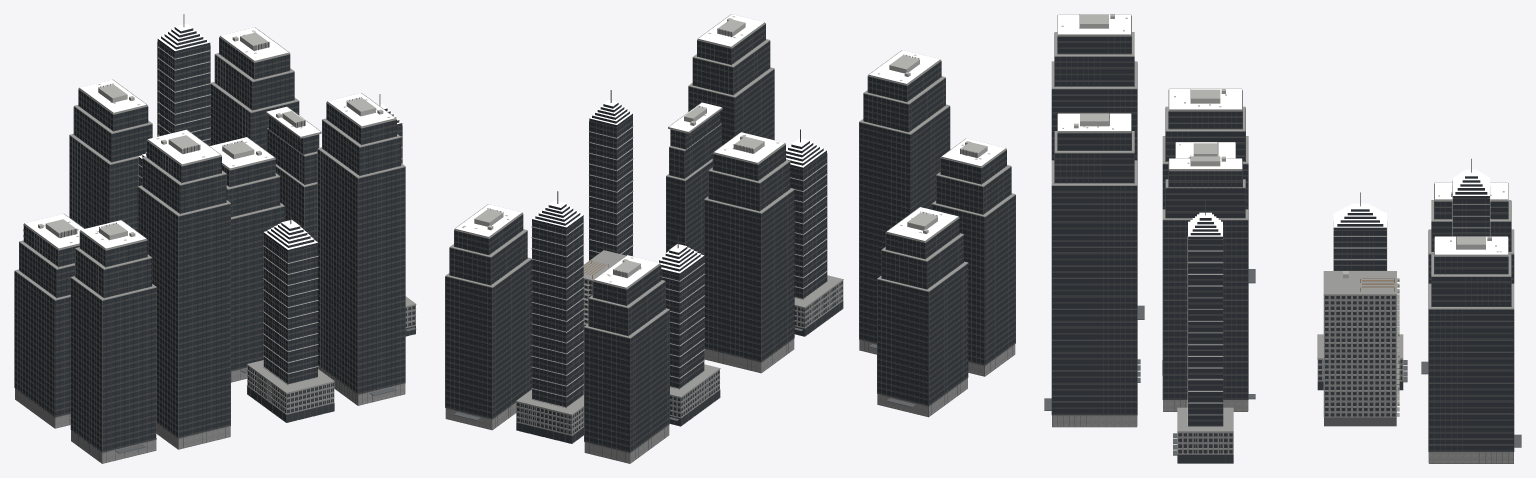
3 views of the same model, side by side, from view 1: azimuth 30°, elevation 25°; view 2: azimuth 150°, elevation 25°; view 3: azimuth 270°, elevation 25° (orthographic). The views are drawn at different scales.
Visible parts, largest first — view 1: City16__C16Glass, City16__C16Alu, City16__C16Spandrel, City16__C16Light, City16__C16Coping, City16__C16Stone, City16__C16Plant, City16__WindowGlass, City16__C16Band, City16__C16Panel; view 2: City16__C16Glass, City16__C16Alu, City16__C16Spandrel, City16__C16Coping, City16__C16Light, City16__C16Stone, City16__WindowGlass, City16__C16Band, City16__C16Plant, City16__C16Panel; view 3: City16__C16Glass, City16__C16Spandrel, City16__C16Alu, City16__C16Coping, City16__C16Light, City16__C16Render, City16__WindowGlass, City16__C16Plant, City16__C16Stone, City16__C16Band, City16__C16Panel, City16__C16Canopy (+1 smaller).
Part boxes in pixels (x1,y1,x2,y2): City16__C16Glass: (15,27,405,450); City16__C16Alu: (14,14,415,463); City16__C16Spandrel: (15,42,404,452); City16__C16Light: (25,23,402,249); City16__C16Coping: (14,27,416,393); City16__C16Stone: (15,366,404,463); City16__C16Plant: (38,30,389,243); City16__WindowGlass: (247,306,415,422); City16__C16Band: (138,46,402,385); City16__C16Panel: (247,305,415,414); City16__C16Glass: (445,24,1015,451); City16__C16Alu: (445,24,1015,463); City16__C16Spandrel: (445,28,1015,452); City16__C16Coping: (445,14,1015,415); City16__C16Light: (455,14,1005,287); City16__C16Stone: (445,339,1015,463); City16__WindowGlass: (516,280,842,443); City16__C16Band: (531,126,827,408); City16__C16Plant: (462,16,990,294); City16__C16Panel: (516,280,843,435); City16__C16Glass: (1052,36,1513,451); City16__C16Spandrel: (1052,41,1513,451); City16__C16Alu: (1051,14,1514,463); City16__C16Coping: (1051,14,1514,432); City16__C16Light: (1058,14,1507,254); City16__C16Render: (1323,295,1396,417); City16__WindowGlass: (1177,296,1402,463); City16__C16Plant: (1061,14,1504,407); City16__C16Stone: (1052,400,1513,463); City16__C16Band: (1187,186,1490,426); City16__C16Panel: (1177,359,1403,454); City16__C16Canopy: (1044,269,1521,455).
Size of the model in its own units: 239 by 177 by 251.
Materials: 18 (3 with a texture image).
